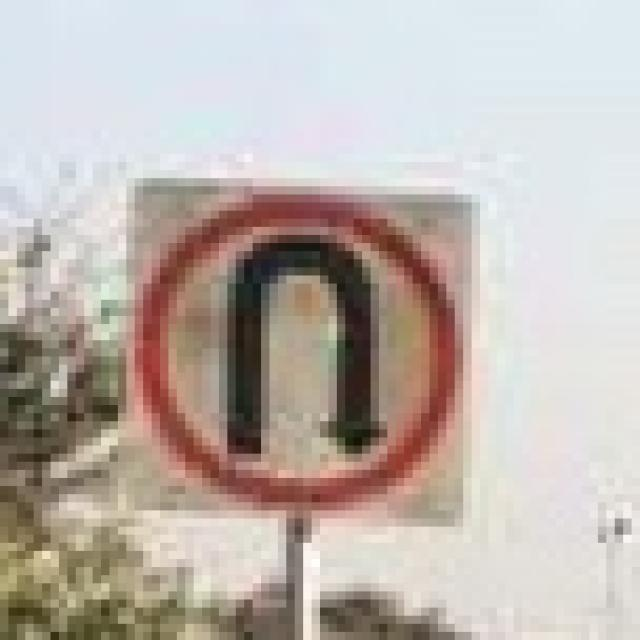u turn: (121, 167, 476, 538)
